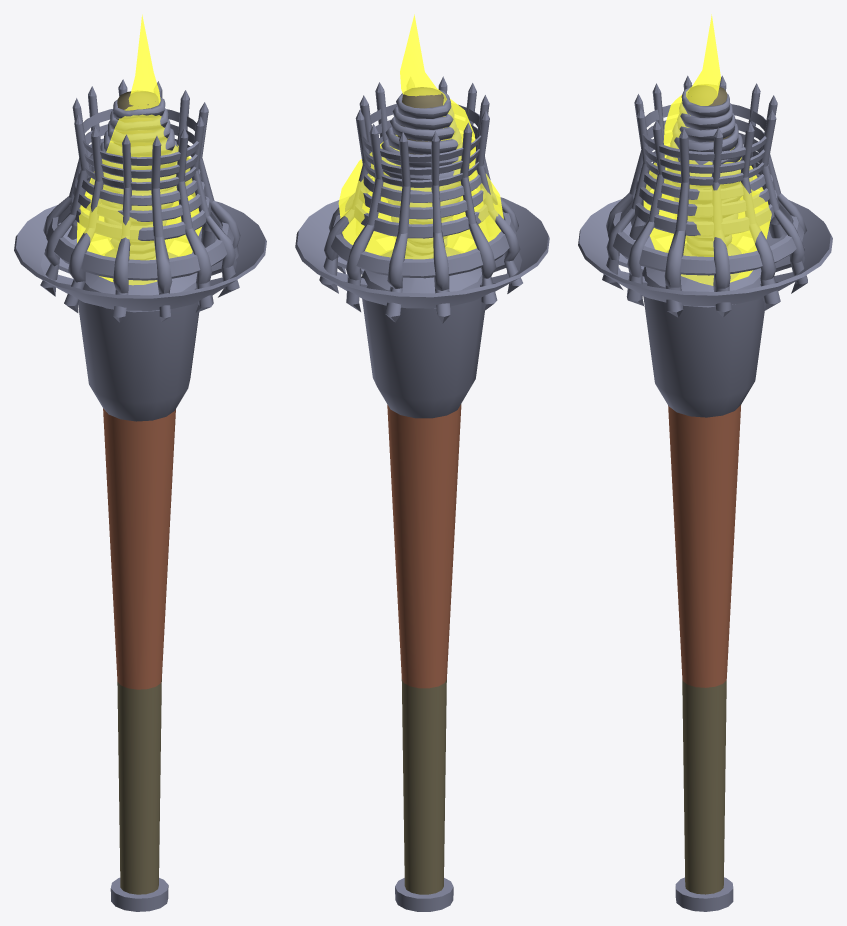
3 renders of one model, left to right at view 1: azimuth 30°, elevation 25°; view 2: azimuth 150°, elevation 25°; view 3: azimuth 270°, elevation 25°, orthographic.
Visible parts, largest first — view 1: torch, flame; view 2: torch, flame; view 3: torch, flame.
Part boxes in pixels (box(x1,y1,x2,y2)): torch: box(14, 79, 266, 911); flame: box(77, 14, 201, 285); torch: box(295, 76, 549, 911); flame: box(338, 14, 503, 259); torch: box(578, 75, 832, 911); flame: box(643, 14, 771, 285).
Bounding box in the file's own units: 236 × 906 × 236.
